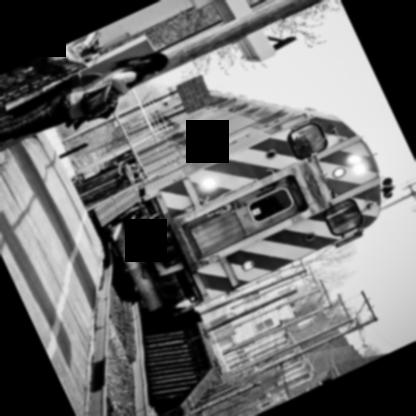handbag: (76, 84, 111, 121)
